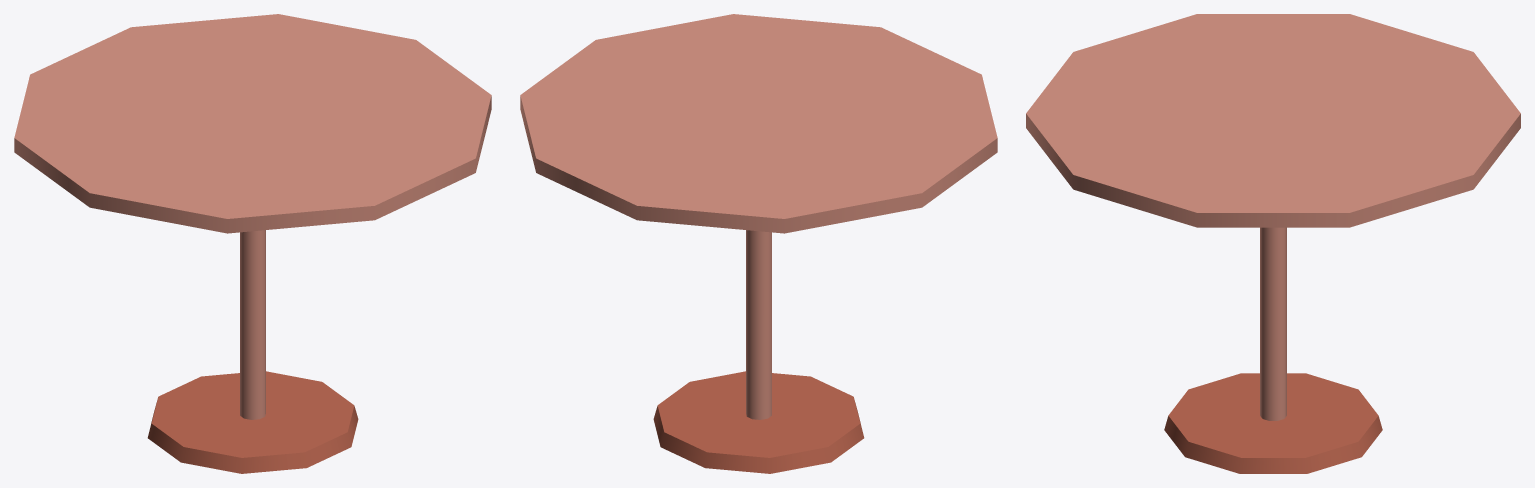
Rendered from Table_1.fbx.
3 views of the same model, side by side, from view 1: azimuth 30°, elevation 25°; view 2: azimuth 150°, elevation 25°; view 3: azimuth 270°, elevation 25° (orthographic).
Visible parts, largest first — view 1: Table_1; view 2: Table_1; view 3: Table_1.
Boxes of the visible parts, x1,y1,x2,y2 form: Table_1: (14, 14, 491, 473); Table_1: (520, 14, 997, 473); Table_1: (1026, 14, 1520, 473).
Size of the model in its own units: 166 by 123 by 174.
